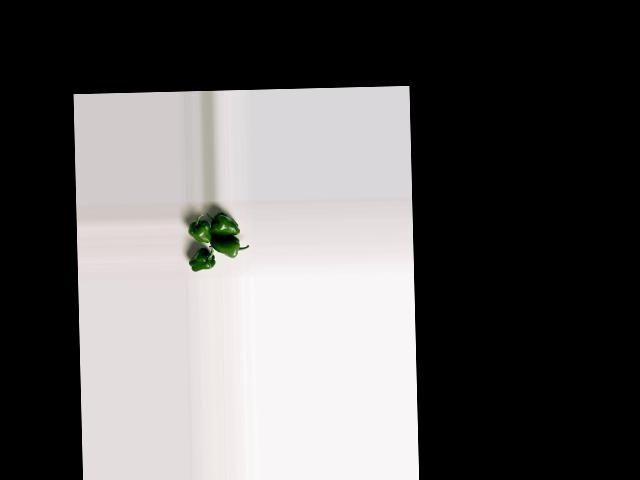bell_pepper: (188, 215, 209, 244)
